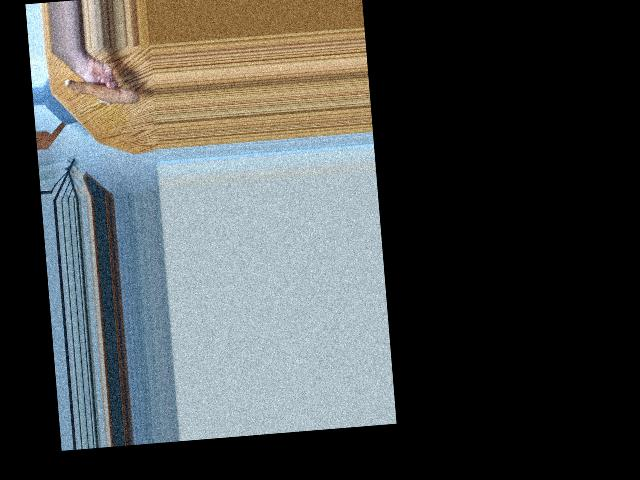sweet_potato: (64, 67, 137, 112)
